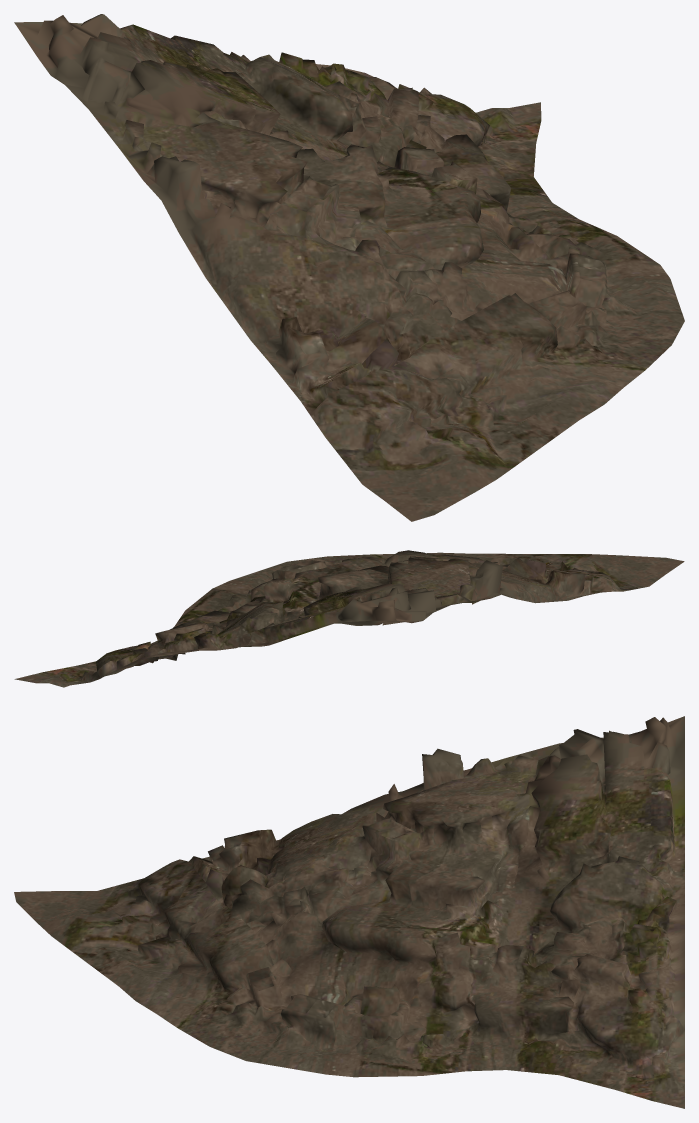
Rendered from Rubbles_07.fbx.
3 renders of one model, top to bottom at view 1: azimuth 30°, elevation 25°; view 2: azimuth 150°, elevation 25°; view 3: azimuth 270°, elevation 25°, orthographic. The views are drawn at different scales.
Parts seen in each view (by area): view 1: Rubble_Corner_IN_LOD0:Rubble_Corner_IN_LOD0_0; view 2: Rubble_Corner_IN_LOD0:Rubble_Corner_IN_LOD0_0; view 3: Rubble_Corner_IN_LOD0:Rubble_Corner_IN_LOD0_0.
Part boxes in pixels (<box>): Rubble_Corner_IN_LOD0:Rubble_Corner_IN_LOD0_0: <box>14,14,684,521</box>; Rubble_Corner_IN_LOD0:Rubble_Corner_IN_LOD0_0: <box>14,550,684,687</box>; Rubble_Corner_IN_LOD0:Rubble_Corner_IN_LOD0_0: <box>14,716,684,1108</box>.
Size of the model in its own units: 32.16 by 12.76 by 42.03.
Materials: 1 (1 with a texture image).
